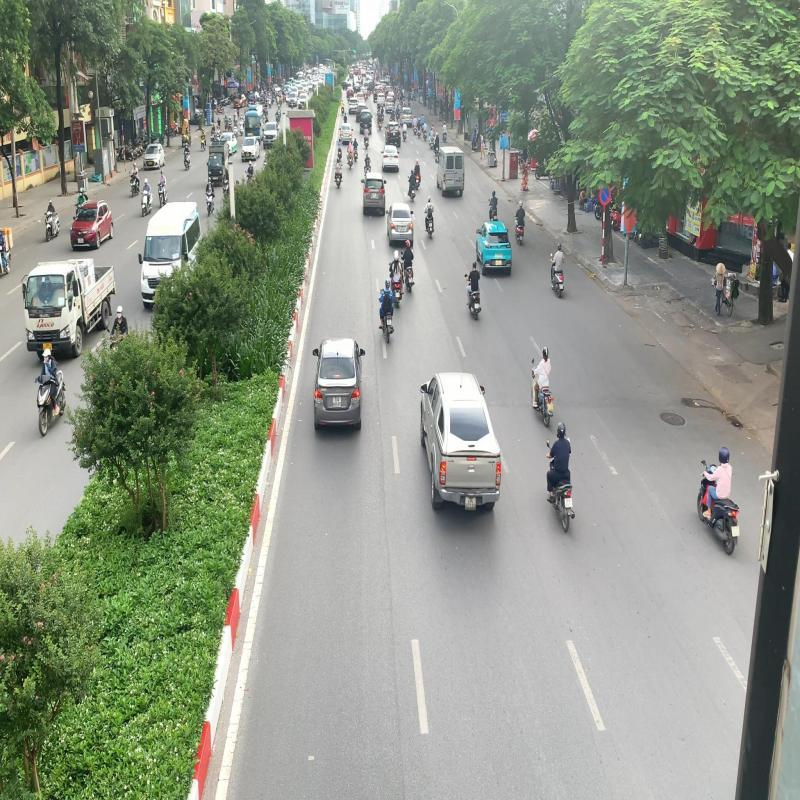helmet: (718, 446, 730, 465), (556, 422, 566, 438), (385, 280, 390, 288)
licenseplate: (732, 525, 740, 537), (564, 498, 573, 508), (386, 319, 392, 325)
motorcyclist: (696, 446, 740, 554), (545, 422, 576, 532), (378, 278, 395, 344)
